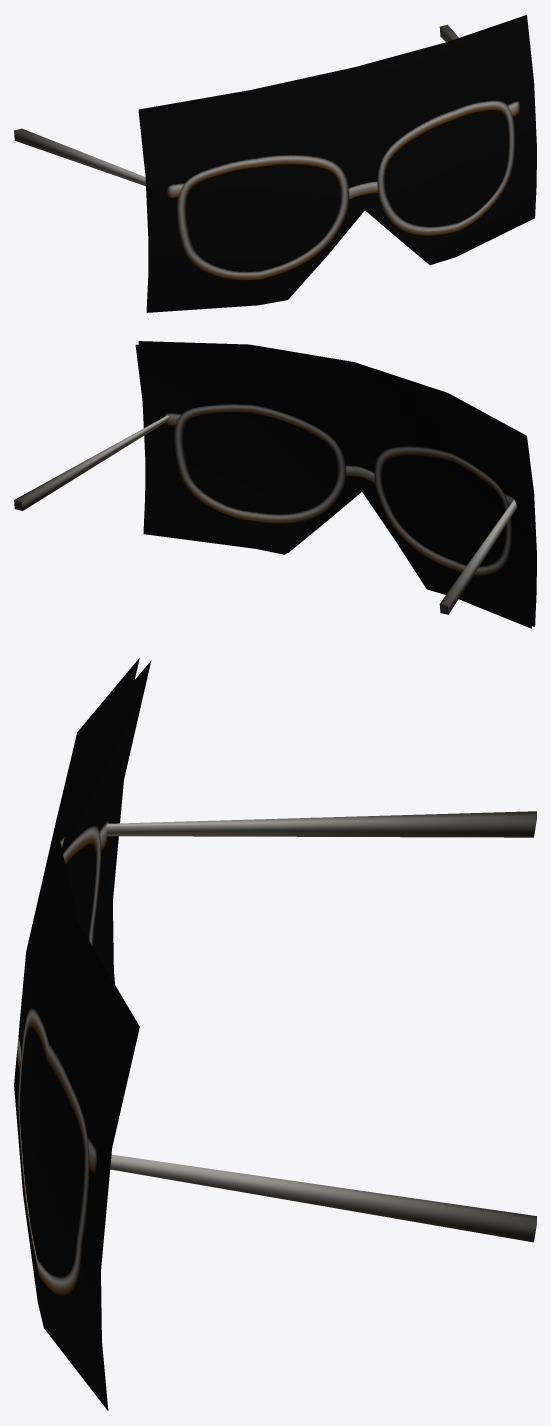
File: Glasses.fbx
3 views of the same model, one above another, from view 1: azimuth 30°, elevation 25°; view 2: azimuth 150°, elevation 25°; view 3: azimuth 270°, elevation 25° (orthographic). The views are drawn at different scales.
Size of the model in its own units: 22.33 by 10.43 by 11.96.
1 material, 1 textured.
